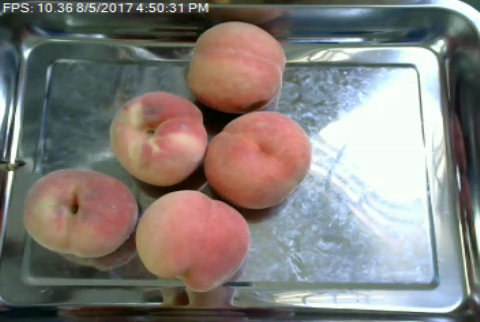Peach: (136, 190, 248, 289), (205, 110, 310, 210), (23, 167, 138, 258), (108, 90, 209, 187), (185, 20, 284, 113)
